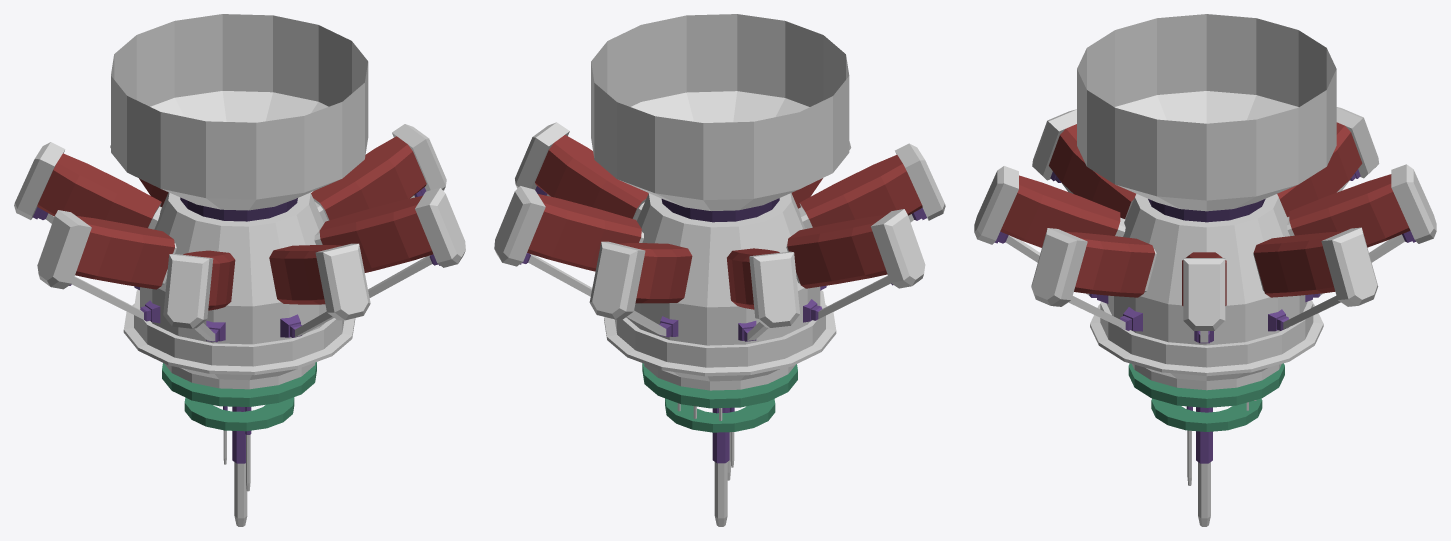
File: reactor_top.fbx
3 views of the same model, side by side, from view 1: azimuth 30°, elevation 25°; view 2: azimuth 150°, elevation 25°; view 3: azimuth 270°, elevation 25° (orthographic).
Parts seen in each view (by area): view 1: reactor_top; view 2: reactor_top; view 3: reactor_top.
Boxes of the visible parts, bbox=[...] form: reactor_top: bbox=[14, 14, 465, 526]; reactor_top: bbox=[494, 14, 945, 526]; reactor_top: bbox=[974, 14, 1436, 526].
Size of the model in its own units: 431 by 472 by 433.
